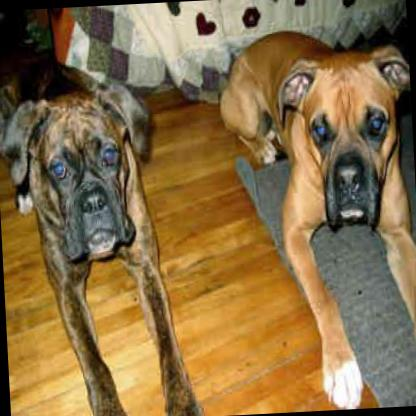boxer: (0, 12, 206, 416), (207, 14, 416, 412)
